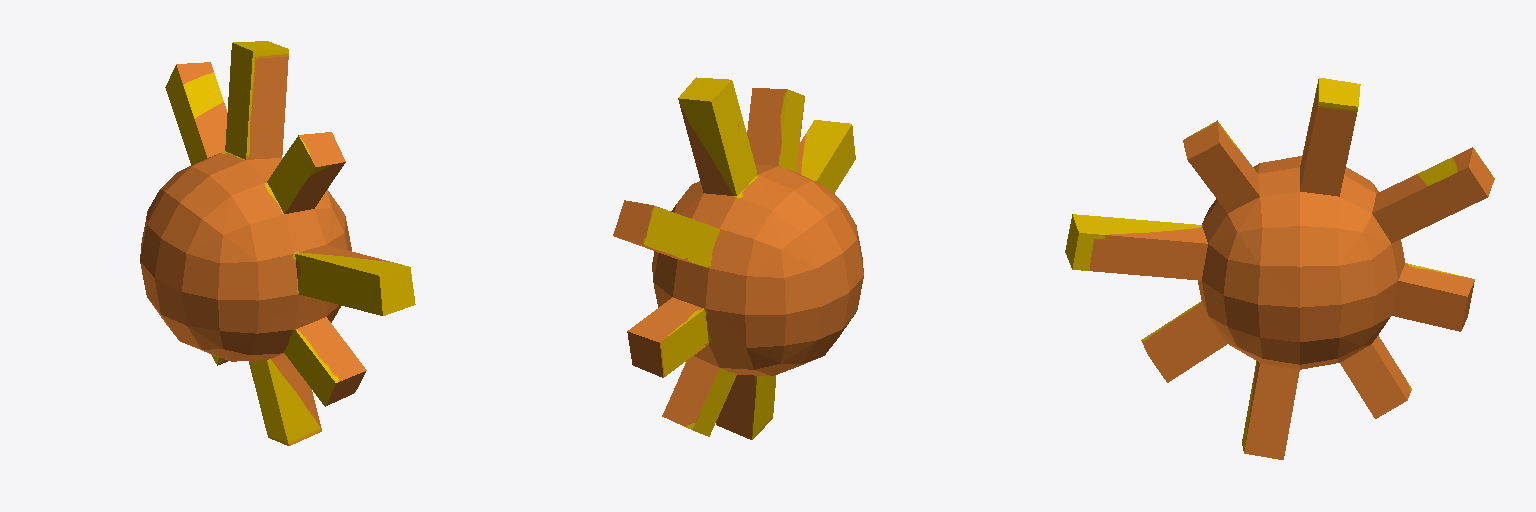
The picture shows the model from 3 angles: view 1: azimuth 30°, elevation 25°; view 2: azimuth 150°, elevation 25°; view 3: azimuth 270°, elevation 25°; orthographic projection.
Parts seen in each view (by area): view 1: 立方体; view 2: 立方体; view 3: 立方体.
Boxes of the visible parts, x1,y1,x2,y2 form: 立方体: [140, 41, 415, 445]; 立方体: [613, 77, 863, 439]; 立方体: [1065, 78, 1494, 459].
Bounding box in the file's own units: 1.68 × 3.27 × 3.42.
Materials: 1 (1 with a texture image).